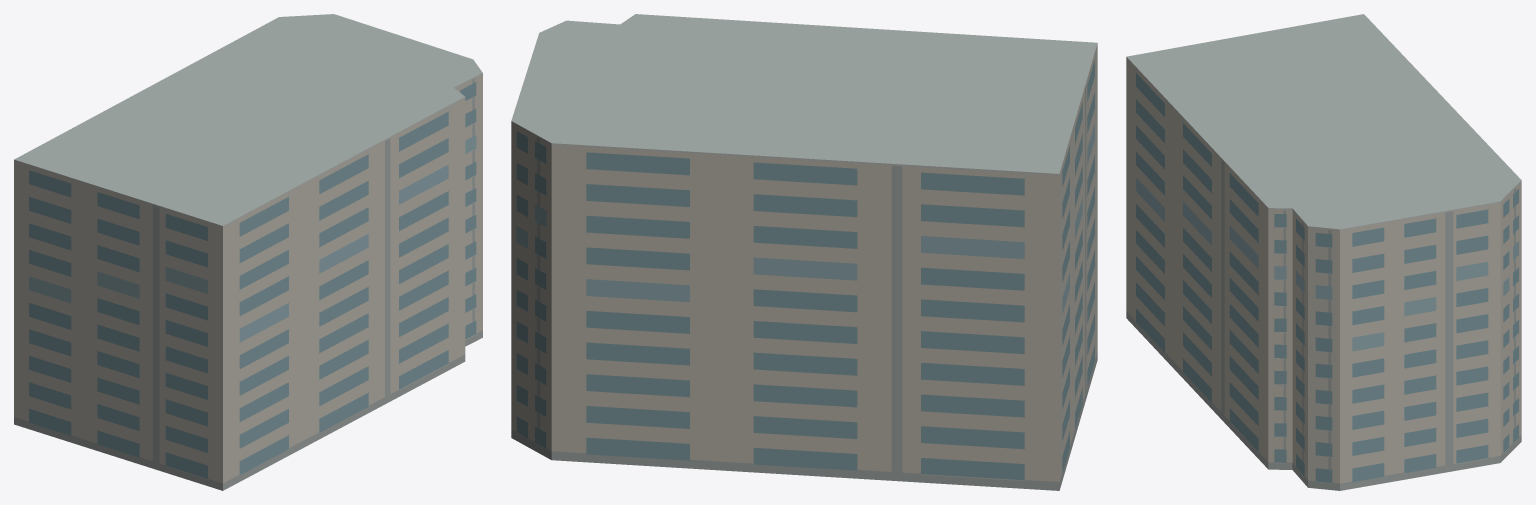
Rendered from residential-7537d0c7-5ca0-4bbe-86f3-b2795e1fad86.glb.
The picture shows the model from 3 angles, left to right: view 1: azimuth 30°, elevation 25°; view 2: azimuth 150°, elevation 25°; view 3: azimuth 270°, elevation 25°; orthographic projection. The views are drawn at different scales.
Parts seen in each view (by area): view 1: residential-7537d0c7-5ca0-4bbe-86f3-b2795e1fad86.tmp; view 2: residential-7537d0c7-5ca0-4bbe-86f3-b2795e1fad86.tmp; view 3: residential-7537d0c7-5ca0-4bbe-86f3-b2795e1fad86.tmp.
Part boxes in pixels (left/top/right/bottom): residential-7537d0c7-5ca0-4bbe-86f3-b2795e1fad86.tmp: left=14, top=14, right=482, bottom=490; residential-7537d0c7-5ca0-4bbe-86f3-b2795e1fad86.tmp: left=511, top=14, right=1097, bottom=490; residential-7537d0c7-5ca0-4bbe-86f3-b2795e1fad86.tmp: left=1126, top=14, right=1521, bottom=490.
Size of the model in its own units: 70.63 by 40 by 54.78.
